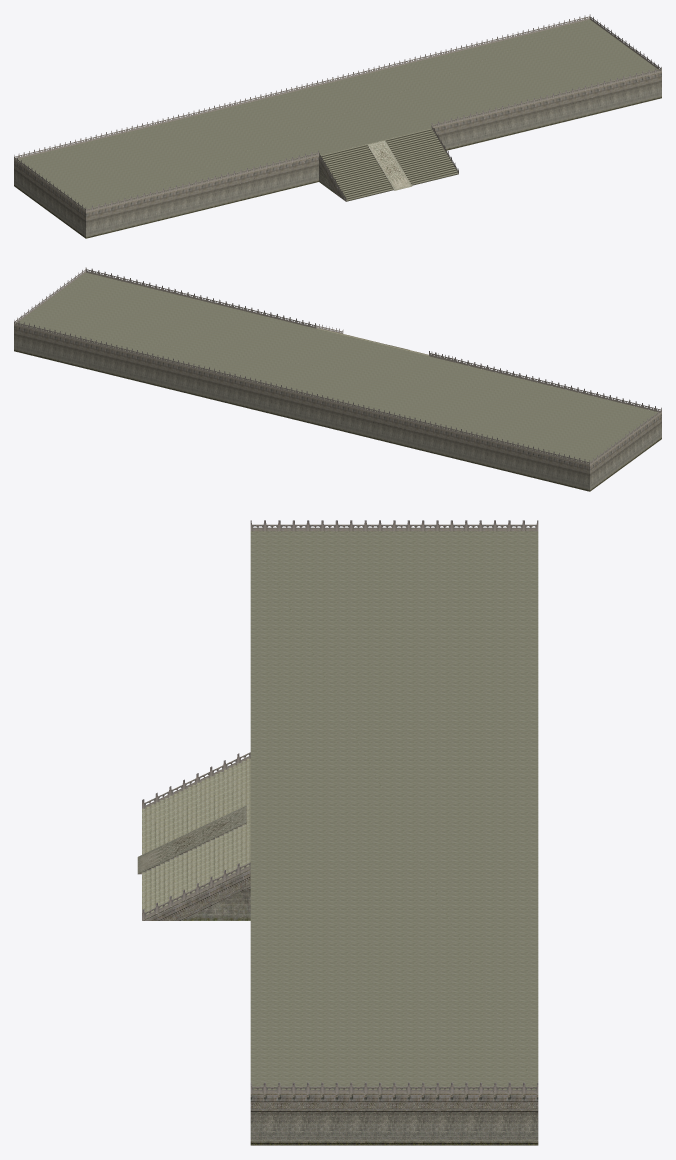
Rendered from cj_pal_main_dan.glb.
3 renders of one model, top to bottom at view 1: azimuth 30°, elevation 25°; view 2: azimuth 150°, elevation 25°; view 3: azimuth 270°, elevation 25°, orthographic. The views are drawn at different scales.
Parts seen in each view (by area): view 1: CJ_pal_main_dan_floor01, CJ_pal_main_dan_wall, CJ_pal_main_dan_wall_al, CJ_pal_main_dan_floor02, CJ_pal_main_dan_dragon; view 2: CJ_pal_main_dan_floor01, CJ_pal_main_dan_wall, CJ_pal_main_dan_wall_al; view 3: CJ_pal_main_dan_floor01, CJ_pal_main_dan_wall, CJ_pal_main_dan_floor02, CJ_pal_main_dan_wall_al, CJ_pal_main_dan_dragon.
Part boxes in pixels (x1,y1,x2,y2): CJ_pal_main_dan_floor01: (16, 19, 659, 210); CJ_pal_main_dan_wall: (14, 72, 661, 238); CJ_pal_main_dan_wall_al: (14, 14, 661, 212); CJ_pal_main_dan_floor02: (320, 128, 458, 201); CJ_pal_main_dan_dragon: (367, 141, 412, 190); CJ_pal_main_dan_floor01: (16, 272, 659, 463); CJ_pal_main_dan_wall: (14, 325, 661, 491); CJ_pal_main_dan_wall_al: (14, 267, 661, 465); CJ_pal_main_dan_floor01: (250, 531, 538, 1089); CJ_pal_main_dan_wall: (138, 822, 538, 1145); CJ_pal_main_dan_floor02: (142, 758, 250, 914); CJ_pal_main_dan_wall_al: (142, 520, 538, 1093); CJ_pal_main_dan_dragon: (137, 805, 246, 873).
Bounding box in the file's own units: 166 × 8.72 × 50.14.
Materials: 5 (5 with a texture image).
